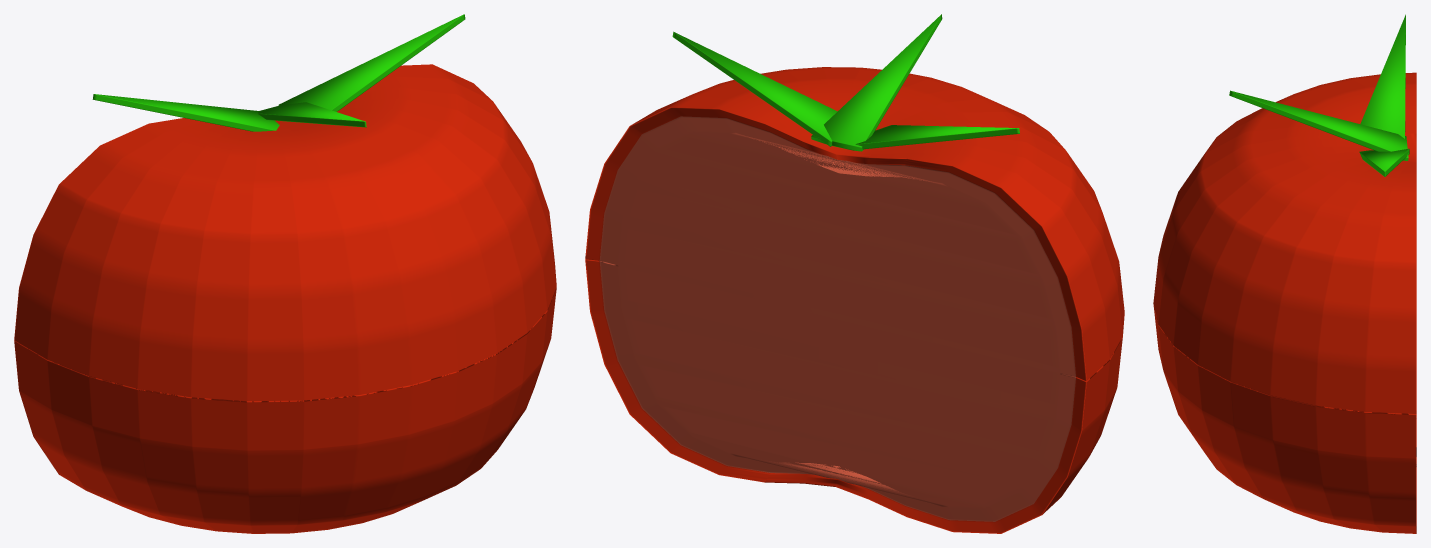
Rendered from Tomato.fbx.
The picture shows the model from 3 angles, left to right: view 1: azimuth 30°, elevation 25°; view 2: azimuth 150°, elevation 25°; view 3: azimuth 270°, elevation 25°; orthographic projection. The views are drawn at different scales.
Parts seen in each view (by area): view 1: Sphere, Plane.001, Plane.002, Plane; view 2: Sphere, Plane, Plane.001, Plane.002; view 3: Sphere, Plane.002, Plane, Plane.001.
Boxes of the visible parts, left/top/right/bottom form: Sphere: left=14, top=64, right=556, bottom=533; Plane.001: left=278, top=14, right=465, bottom=111; Plane.002: left=92, top=94, right=279, bottom=131; Plane: left=257, top=102, right=366, bottom=127; Sphere: left=585, top=67, right=1124, bottom=533; Plane: left=811, top=14, right=942, bottom=151; Plane.001: left=672, top=31, right=837, bottom=146; Plane.002: left=855, top=125, right=1019, bottom=149; Sphere: left=1153, top=72, right=1416, bottom=533; Plane.002: left=1360, top=14, right=1405, bottom=138; Plane: left=1229, top=90, right=1408, bottom=160; Plane.001: left=1359, top=148, right=1409, bottom=176.
Size of the model in its own units: 2 by 1.58 by 1.
